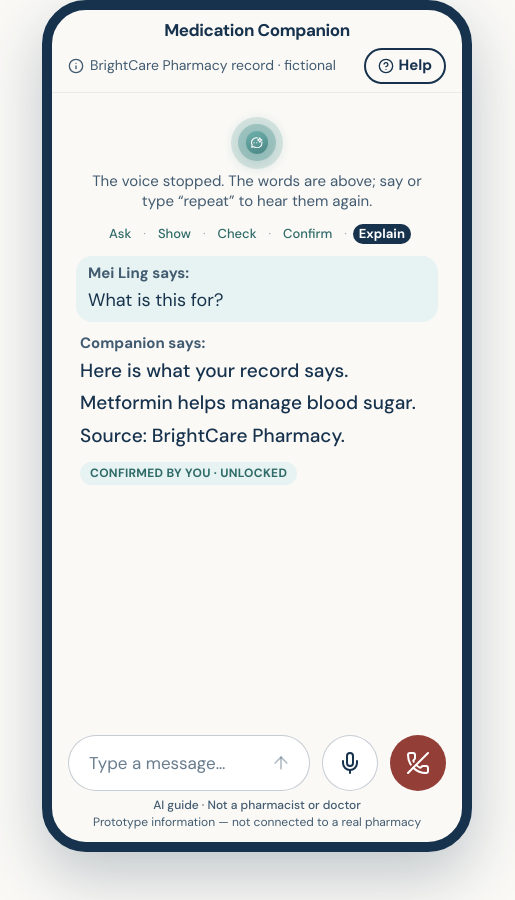
Test: when the fixed phrases don't match: Claude works out the meaning › gibberish: the companion asks them to say it again
The image size is (515, 900).
Type "asdkjh blorp qwe" into the field labelled "Type a message…" at (171, 763), box [89,736,253,790]
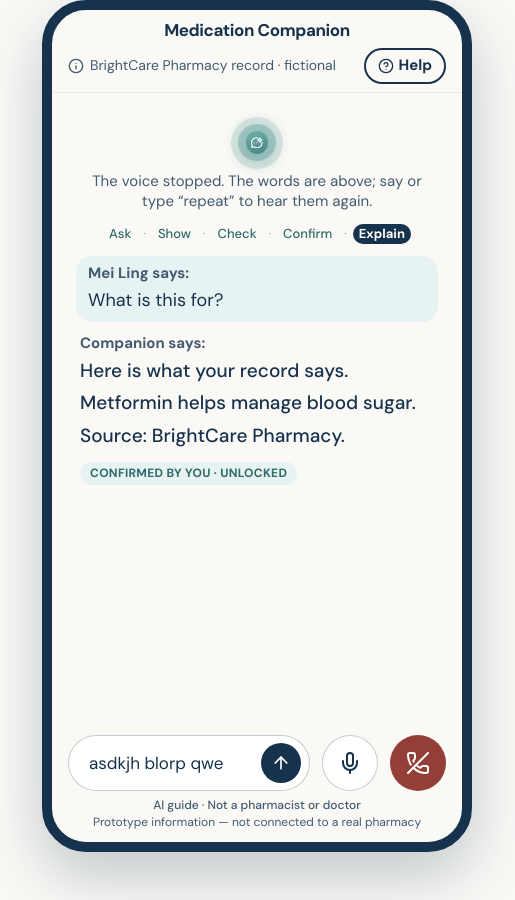
Submit the form named "type a message", box [68,735,310,791]
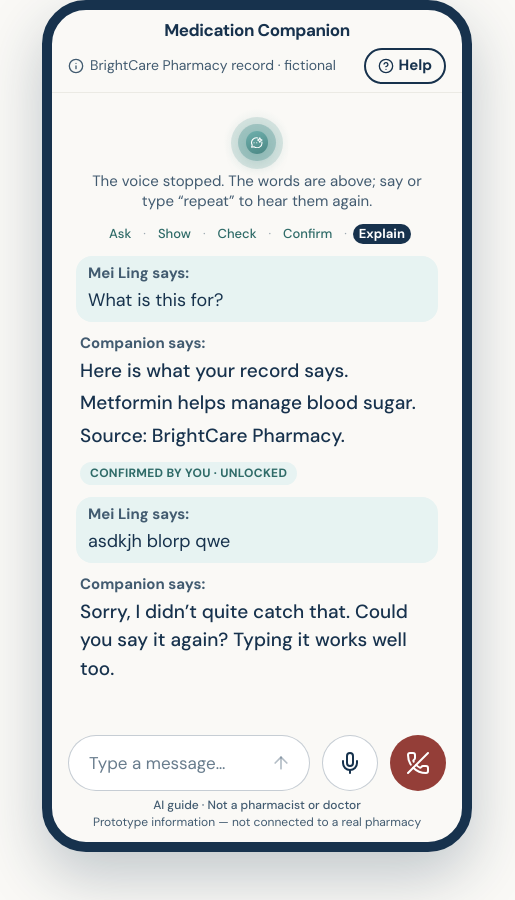
Expected: the text "Sorry, I didn’t quite catch that. Could you say it again? Typing it works well too." is shown, [80,598,408,680]
